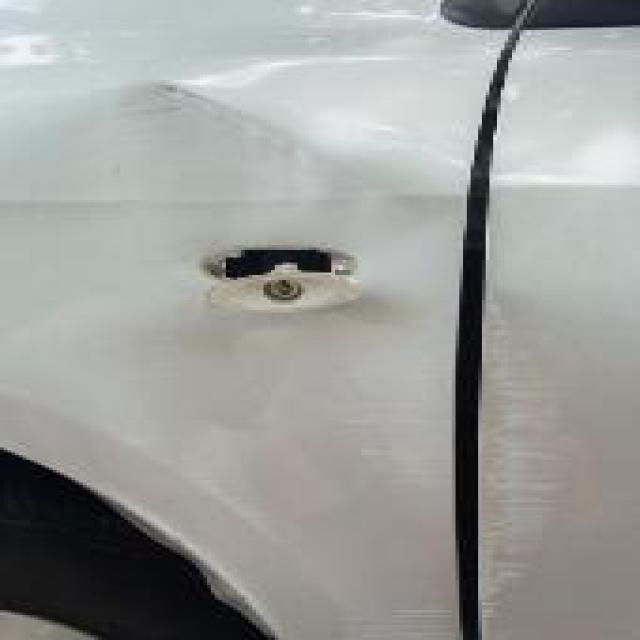Door: (471, 282, 584, 630)
Fender: (60, 58, 456, 332)
